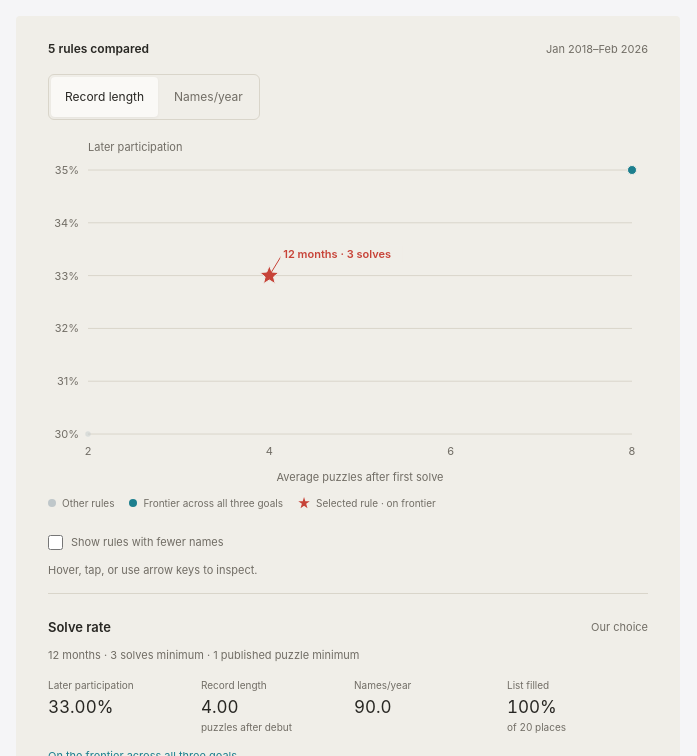
keyboard navigation visits distinct results, preserves selection across axes, and can restore our choice
The image size is (697, 756).
Press ArrowRight in the slider, box [48, 138, 648, 488]
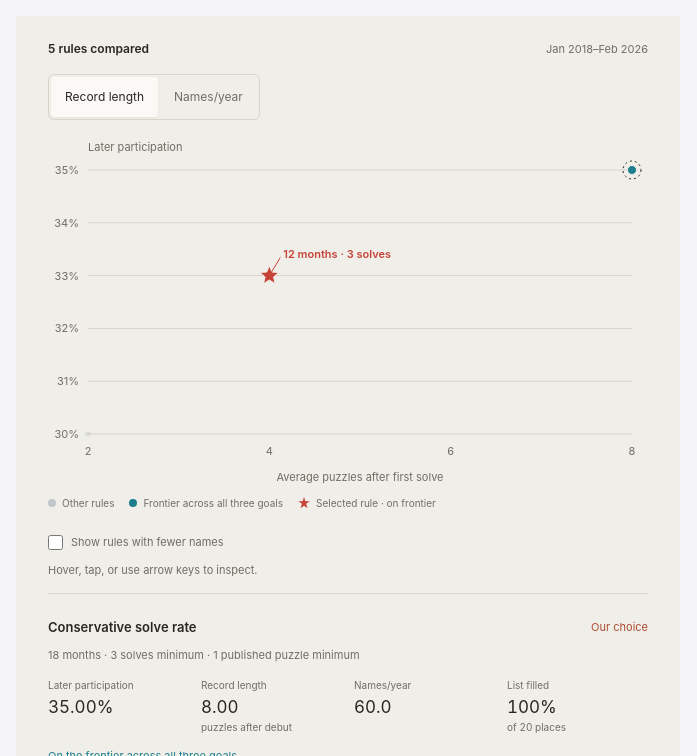
Expected: the element named "Selected rule details" shows "Conservative solve rate", [48, 618, 196, 634]
Press ArrowLeft in the slider, box [48, 138, 648, 488]
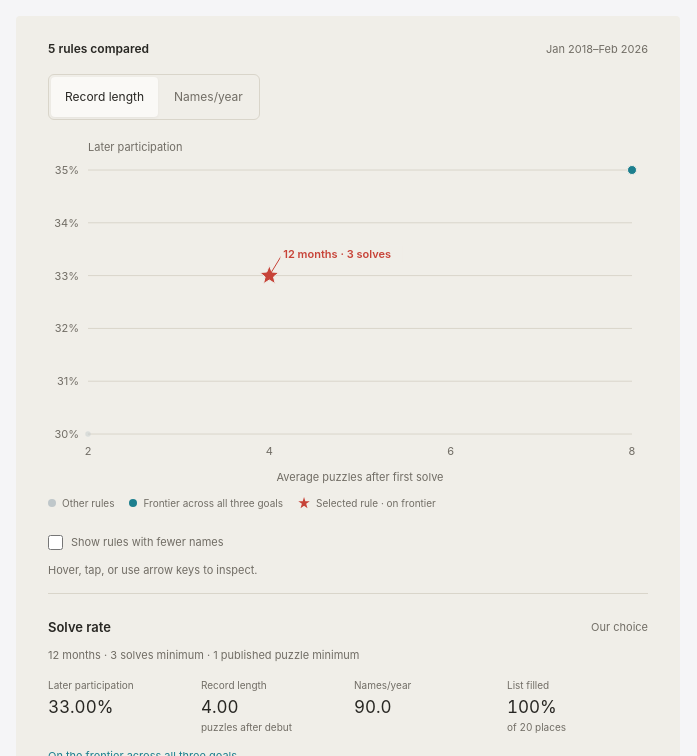
Expected: the element named "Selected rule details" shows "12 months", [48, 592, 648, 755]
Press Home in the slider, box [48, 138, 648, 488]
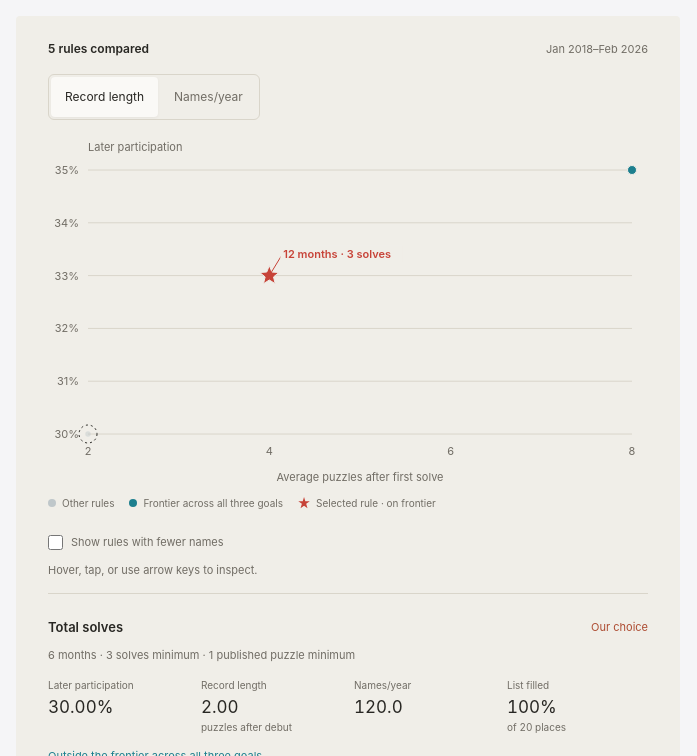
Expected: the element named "Selected rule details" shows "Total solves", [48, 618, 123, 634]
Press End in the slider, box [48, 138, 648, 488]
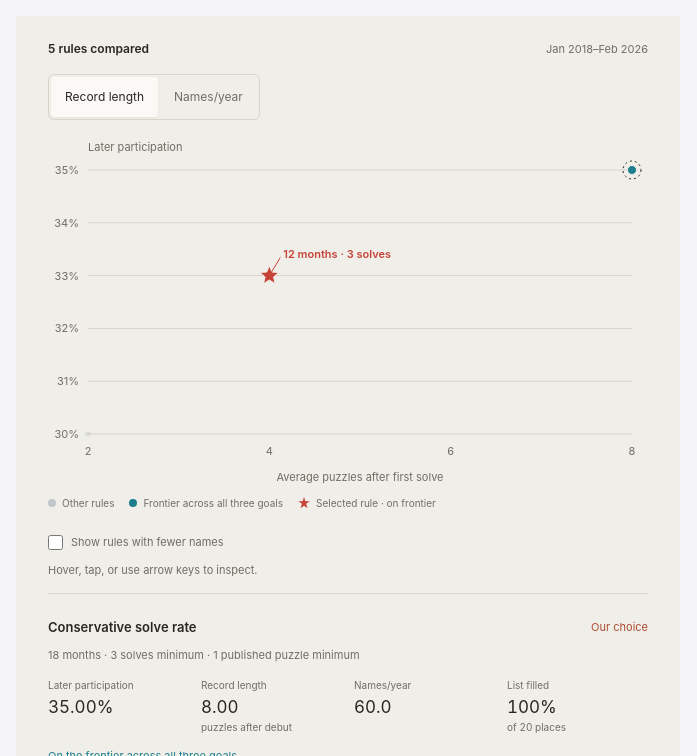
Expected: the element named "Selected rule details" shows "Conservative solve rate", [48, 618, 196, 634]
Click the button "Names/year".
click(208, 97)  # box [160, 77, 257, 117]
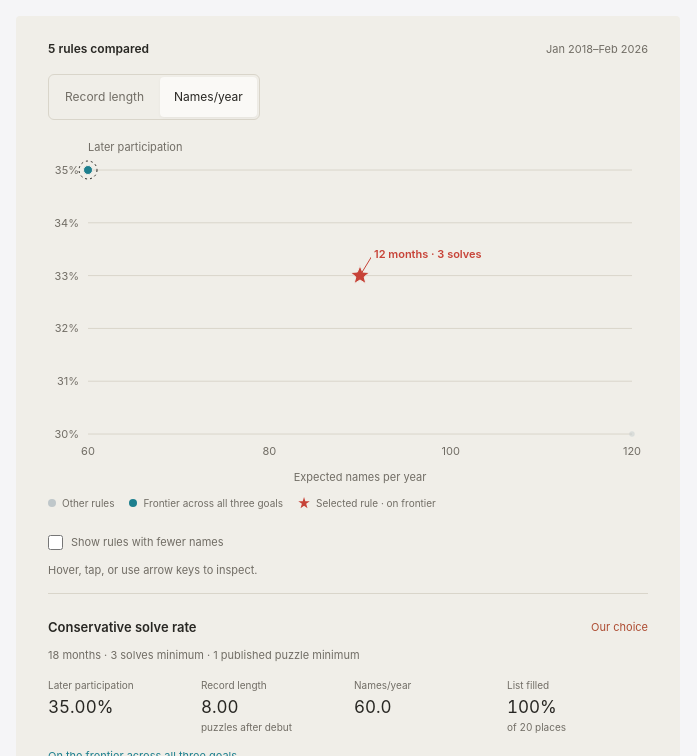
Expected: the element named "Selected rule details" shows "Conservative solve rate", [48, 618, 196, 634]
Click the button "Our choice".
click(615, 626)  # box [581, 606, 648, 646]
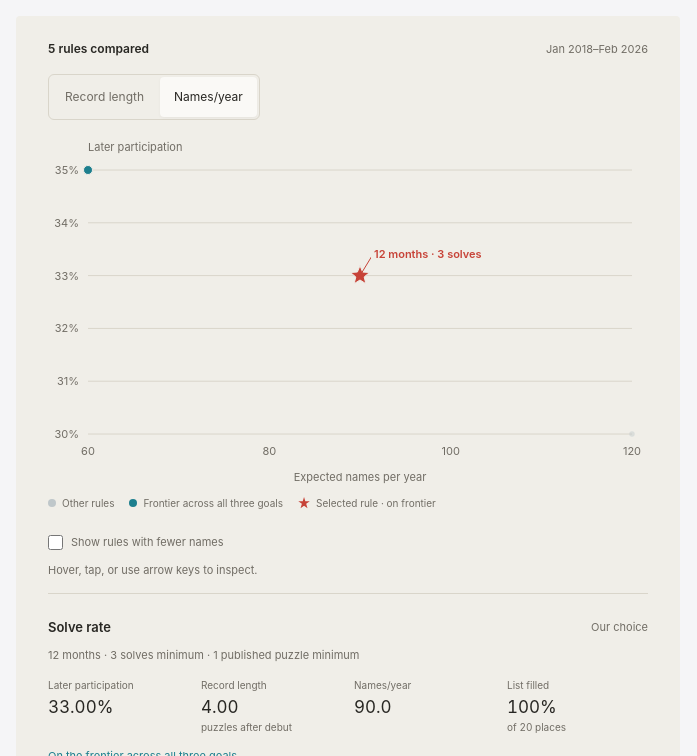
Expected: the element named "Selected rule details" shows "12 months", [48, 592, 648, 755]
Expected: the button "Our choice" is disabled, [581, 606, 648, 646]
